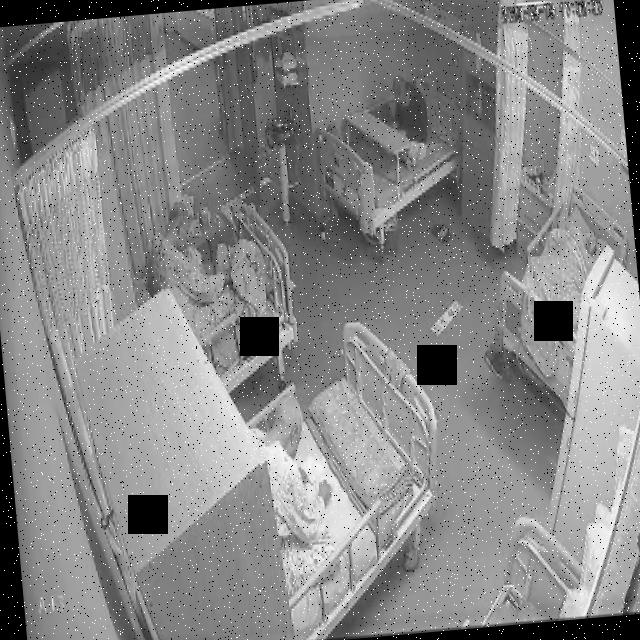bed: (233, 317, 455, 640), (483, 183, 640, 410), (152, 203, 299, 397), (315, 70, 470, 240)
patient: (244, 392, 330, 604), (145, 195, 238, 354), (383, 74, 431, 171)
sit: (146, 194, 280, 352), (244, 391, 336, 606), (382, 74, 431, 172)
